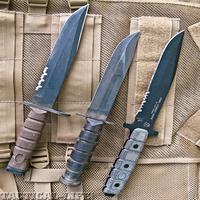knife: (1, 1, 94, 178), (97, 26, 189, 195), (53, 20, 138, 187)
